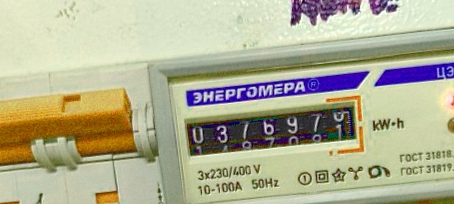0: (190, 123, 205, 144)
1: (333, 121, 346, 141)
3: (214, 122, 229, 144)
6: (260, 114, 276, 136)
7: (308, 110, 323, 133), (237, 118, 252, 140)
9: (284, 113, 299, 135)
screen: (175, 89, 371, 174)
